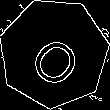O_NE: (21, 20, 87, 87)
